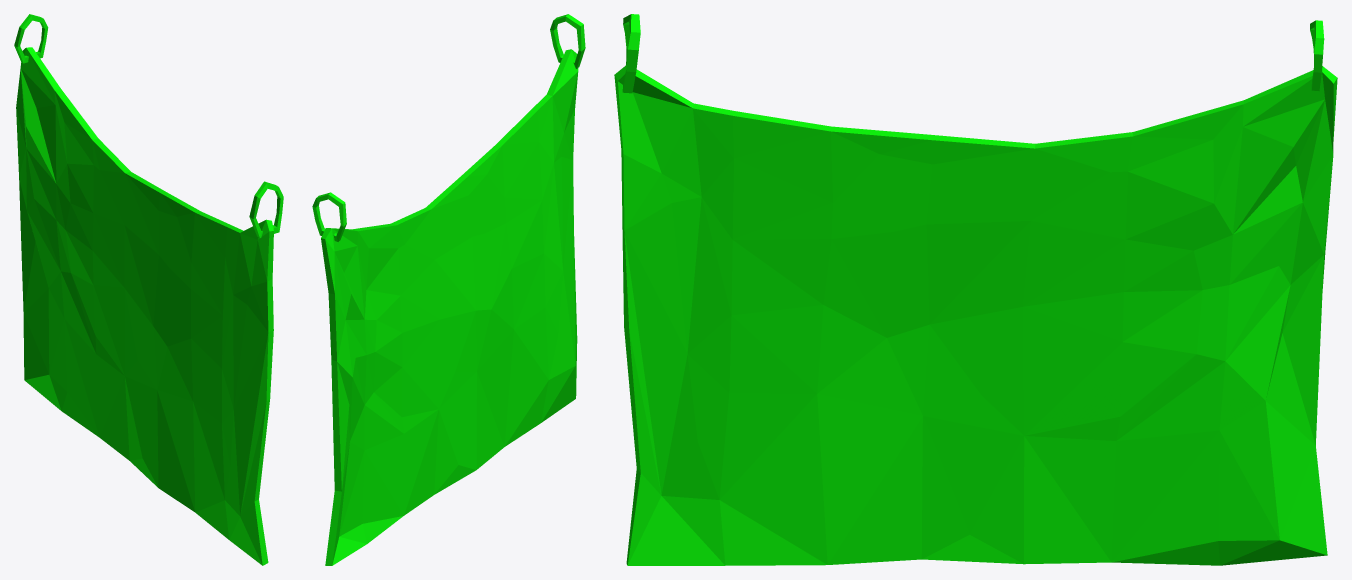
File: SM_Market_Stall_Cloth_Wall_Short_Stripes.fbx
3 views of the same model, side by side, from view 1: azimuth 30°, elevation 25°; view 2: azimuth 150°, elevation 25°; view 3: azimuth 270°, elevation 25° (orthographic). The views are drawn at different scales.
Parts seen in each view (by area): view 1: market-stall-cloth-wall-short-stripes; view 2: market-stall-cloth-wall-short-stripes; view 3: market-stall-cloth-wall-short-stripes.
Boxes of the visible parts, x1=… form: market-stall-cloth-wall-short-stripes: x1=14, y1=14, x2=283, y2=565; market-stall-cloth-wall-short-stripes: x1=312, y1=14, x2=585, y2=565; market-stall-cloth-wall-short-stripes: x1=614, y1=14, x2=1337, y2=565.
Bounding box in the file's own units: 0.2087 × 2.33 × 2.76.
